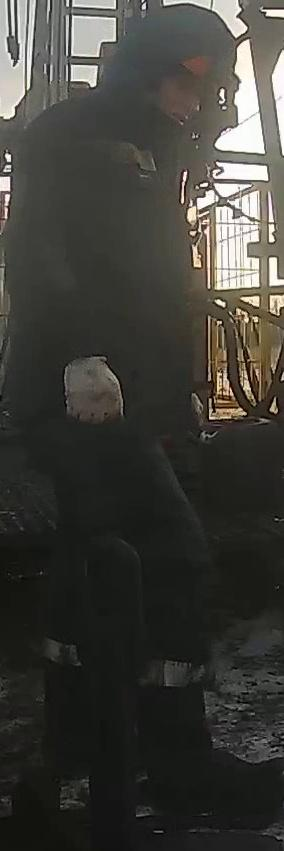gloves: (47, 338, 130, 431)
vest: (1, 91, 203, 441)
